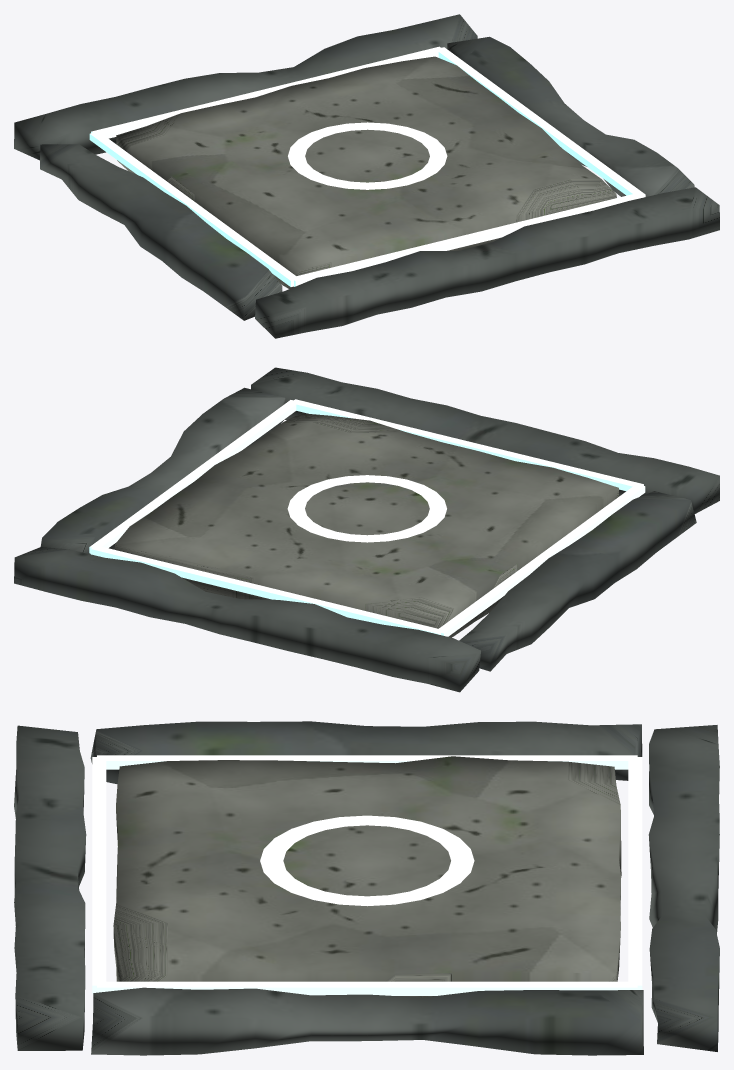
The model's file is gimmick_pressure_plate.glb.
3 views of the same model, one above another, from view 1: azimuth 30°, elevation 25°; view 2: azimuth 150°, elevation 25°; view 3: azimuth 270°, elevation 25° (orthographic). The views are drawn at different scales.
Visible parts, largest first — view 1: gimmick_pressure_plate__stone_pale, gimmick_pressure_plate__stone_dark, gimmick_pressure_plate__glow_core; view 2: gimmick_pressure_plate__stone_pale, gimmick_pressure_plate__stone_dark, gimmick_pressure_plate__glow_core; view 3: gimmick_pressure_plate__stone_pale, gimmick_pressure_plate__stone_dark, gimmick_pressure_plate__glow_core.
Boxes of the visible parts, left/top/right/bottom form: gimmick_pressure_plate__stone_pale: left=116, top=56, right=616, bottom=288; gimmick_pressure_plate__stone_dark: left=14, top=14, right=719, bottom=338; gimmick_pressure_plate__glow_core: left=89, top=46, right=645, bottom=286; gimmick_pressure_plate__stone_pale: left=115, top=413, right=618, bottom=637; gimmick_pressure_plate__stone_dark: left=14, top=367, right=719, bottom=692; gimmick_pressure_plate__glow_core: left=89, top=399, right=645, bottom=636; gimmick_pressure_plate__stone_pale: left=113, top=756, right=621, bottom=997; gimmick_pressure_plate__stone_dark: left=14, top=721, right=719, bottom=1055; gimmick_pressure_plate__glow_core: left=92, top=755, right=642, bottom=995.
Bounding box in the file's own units: 1.51 × 0.1301 × 1.51.
Materials: 3 (2 with a texture image).
